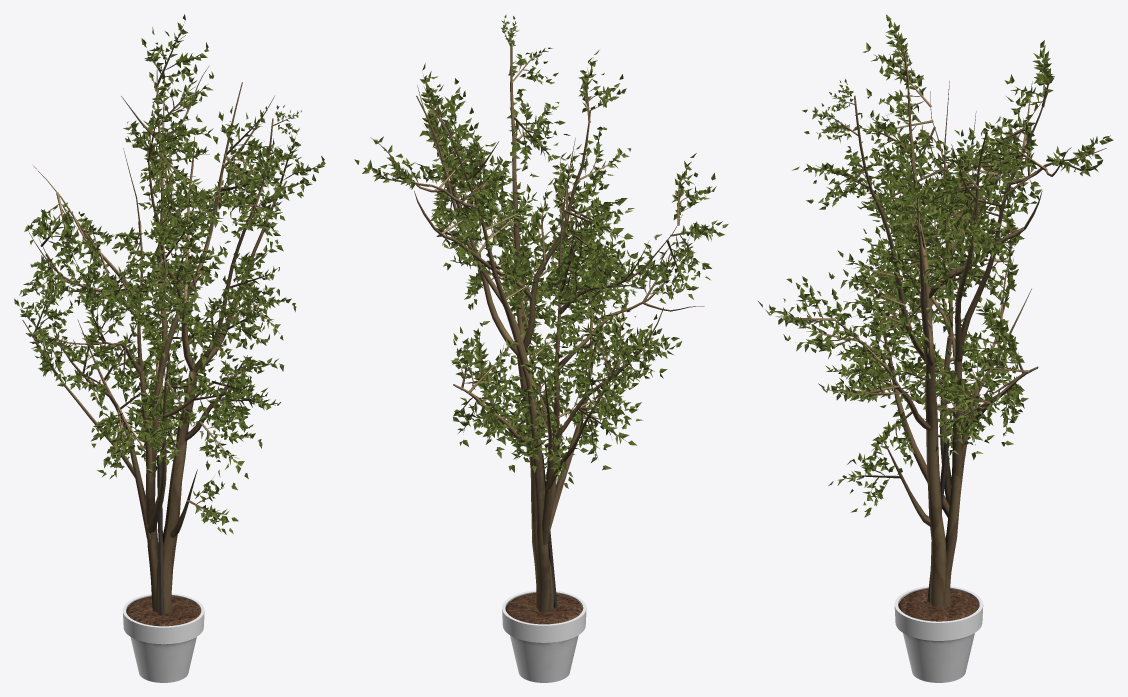
Rendered from tree_large_l.dae.
The picture shows the model from 3 angles, left to right: view 1: azimuth 30°, elevation 25°; view 2: azimuth 150°, elevation 25°; view 3: azimuth 270°, elevation 25°; orthographic projection. The views are drawn at different scales.
Parts seen in each view (by area): view 1: leaf_l, tree_main, Vase; view 2: leaf_l, tree_main, Vase; view 3: leaf_l, tree_main, Vase.
Part boxes in pixels (x1,y1,x2,y2): leaf_l: [14, 14, 325, 534]; tree_main: [22, 65, 287, 613]; Vase: [122, 455, 204, 682]; leaf_l: [354, 14, 728, 488]; tree_main: [370, 40, 704, 612]; Vase: [502, 453, 586, 682]; leaf_l: [758, 14, 1113, 517]; tree_main: [831, 70, 1106, 607]; Vase: [894, 438, 983, 682].
Bounding box in the file's own units: 2.55 × 5.1 × 2.51.
Materials: 5 (5 with a texture image).
